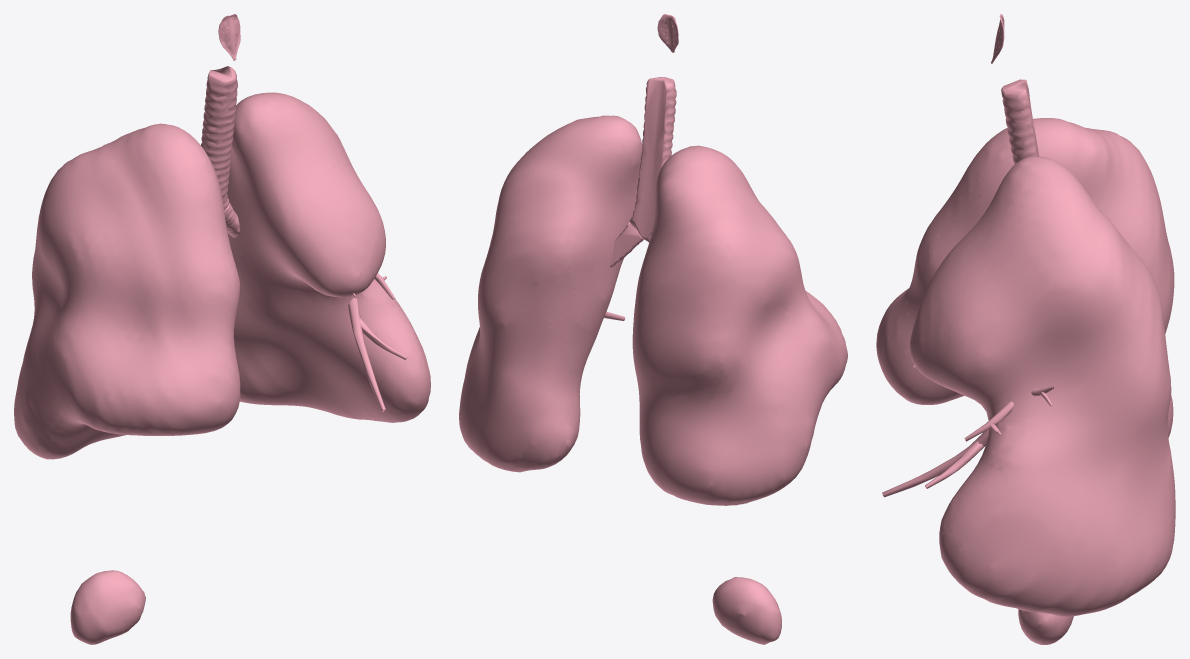
File: respiratory.glb
The picture shows the model from 3 angles, left to right: view 1: azimuth 30°, elevation 25°; view 2: azimuth 150°, elevation 25°; view 3: azimuth 270°, elevation 25°; orthographic projection. The views are drawn at different scales.
Parts seen in each view (by area): view 1: LUNG_R, LUNG_L, FJ2541, FJ2441, FJ2770; view 2: LUNG_R, LUNG_L, FJ2541, FJ2450, FJ2770; view 3: LUNG_L, LUNG_R, FJ2541, FJ2441, FJ2475.
Boxes of the visible parts, <box> form: LUNG_R: <box>14,123,240,644</box>; LUNG_L: <box>227,92,430,422</box>; FJ2541: <box>201,66,237,210</box>; FJ2441: <box>348,298,385,411</box>; FJ2770: <box>218,14,240,60</box>; LUNG_R: <box>632,145,847,644</box>; LUNG_L: <box>459,115,642,472</box>; FJ2541: <box>629,77,676,240</box>; FJ2450: <box>610,222,643,267</box>; FJ2770: <box>657,14,678,52</box>; LUNG_L: <box>910,156,1175,616</box>; LUNG_R: <box>876,118,1174,644</box>; FJ2541: <box>1001,79,1039,164</box>; FJ2441: <box>882,429,988,497</box>; FJ2475: <box>925,441,983,488</box>.
Bounding box in the file's own units: 0.2677 × 0.4293 × 0.1702.
